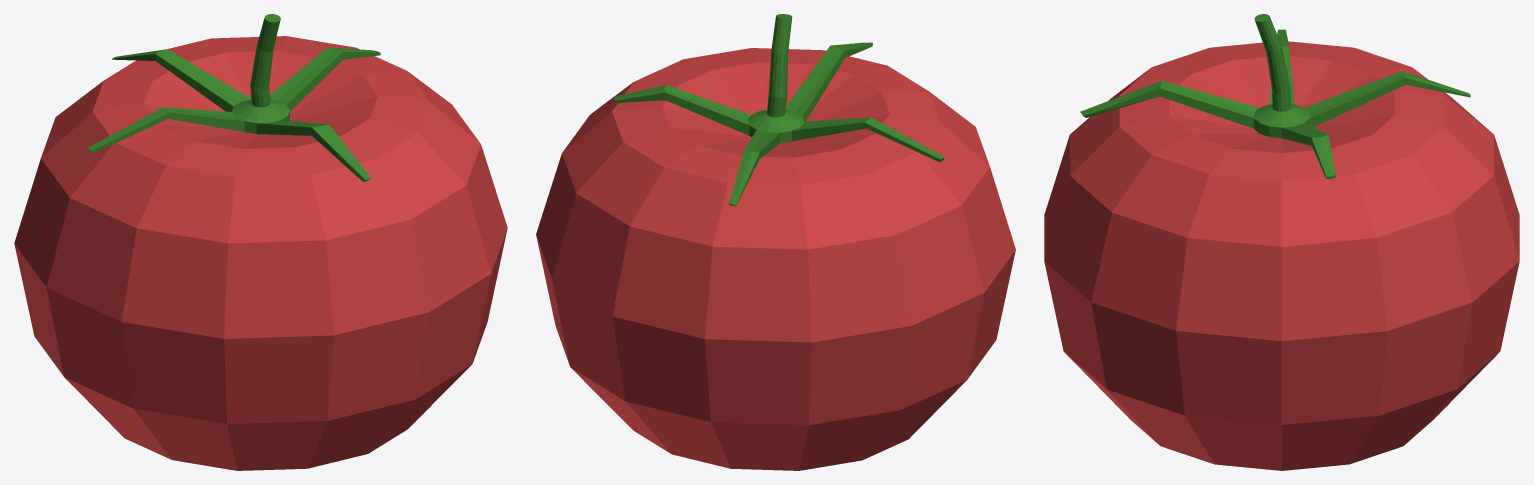
The model's file is tomato.fbx.
3 renders of one model, left to right at view 1: azimuth 30°, elevation 25°; view 2: azimuth 150°, elevation 25°; view 3: azimuth 270°, elevation 25°, orthographic. The views are drawn at different scales.
Visible parts, largest first — view 1: Sphere, Sphere_1; view 2: Sphere, Sphere_1; view 3: Sphere, Sphere_1.
Boxes of the visible parts, <box> form: Sphere: <box>14,36,507,470</box>; Sphere_1: <box>87,14,380,181</box>; Sphere: <box>536,48,1015,470</box>; Sphere_1: <box>614,14,944,205</box>; Sphere: <box>1044,41,1519,470</box>; Sphere_1: <box>1080,14,1470,179</box>.
Bounding box in the file's own units: 310 × 297 × 302.
